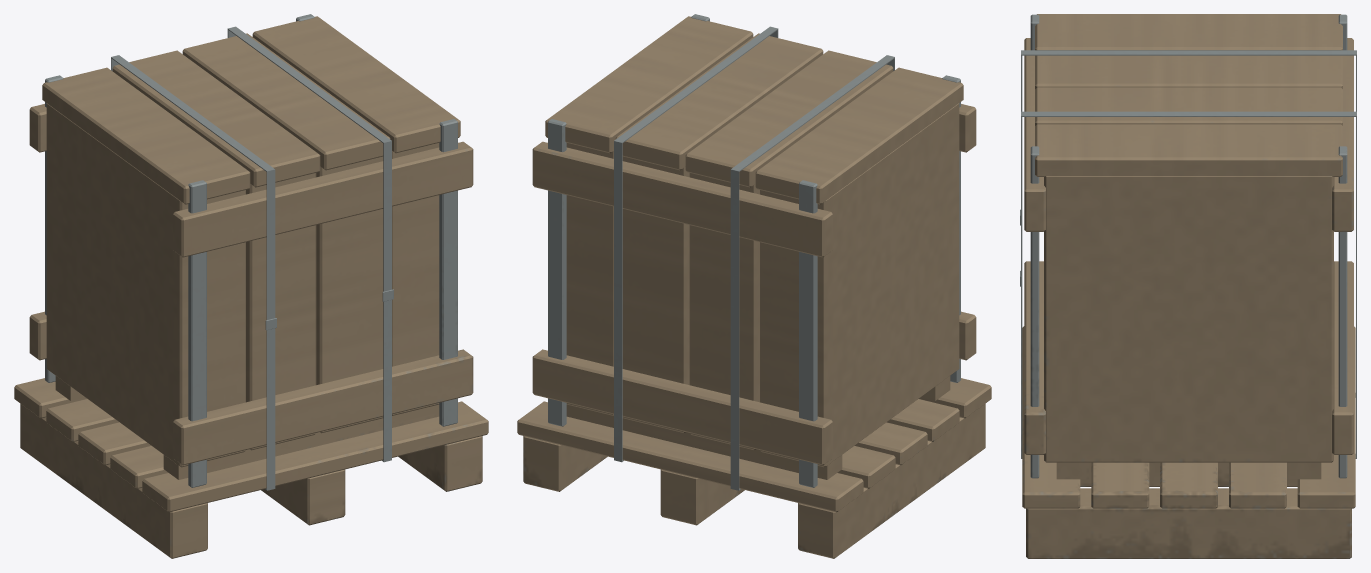
File: wood_pallet_loaded.glb
3 views of the same model, side by side, from view 1: azimuth 30°, elevation 25°; view 2: azimuth 150°, elevation 25°; view 3: azimuth 270°, elevation 25° (orthographic). The views are drawn at different scales.
Parts seen in each view (by area): view 1: WoodPalletLoaded; view 2: WoodPalletLoaded; view 3: WoodPalletLoaded.
Boxes of the visible parts, left/top/right/bottom form: WoodPalletLoaded: left=14, top=14, right=488, bottom=558; WoodPalletLoaded: left=517, top=14, right=991, bottom=558; WoodPalletLoaded: left=1020, top=14, right=1356, bottom=558.
Size of what is drawn, in the model's own units: 1.1 by 1.2 by 0.93.
Materials: 1 (1 with a texture image).
